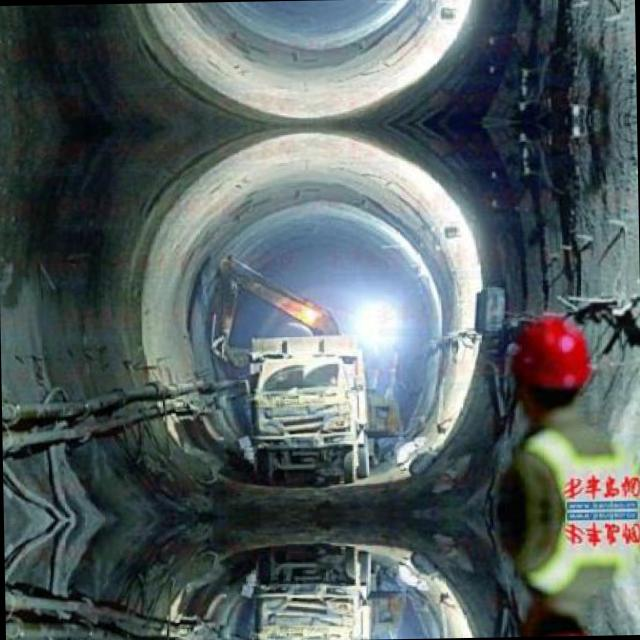helmet: (503, 306, 600, 416), (508, 606, 606, 634)
